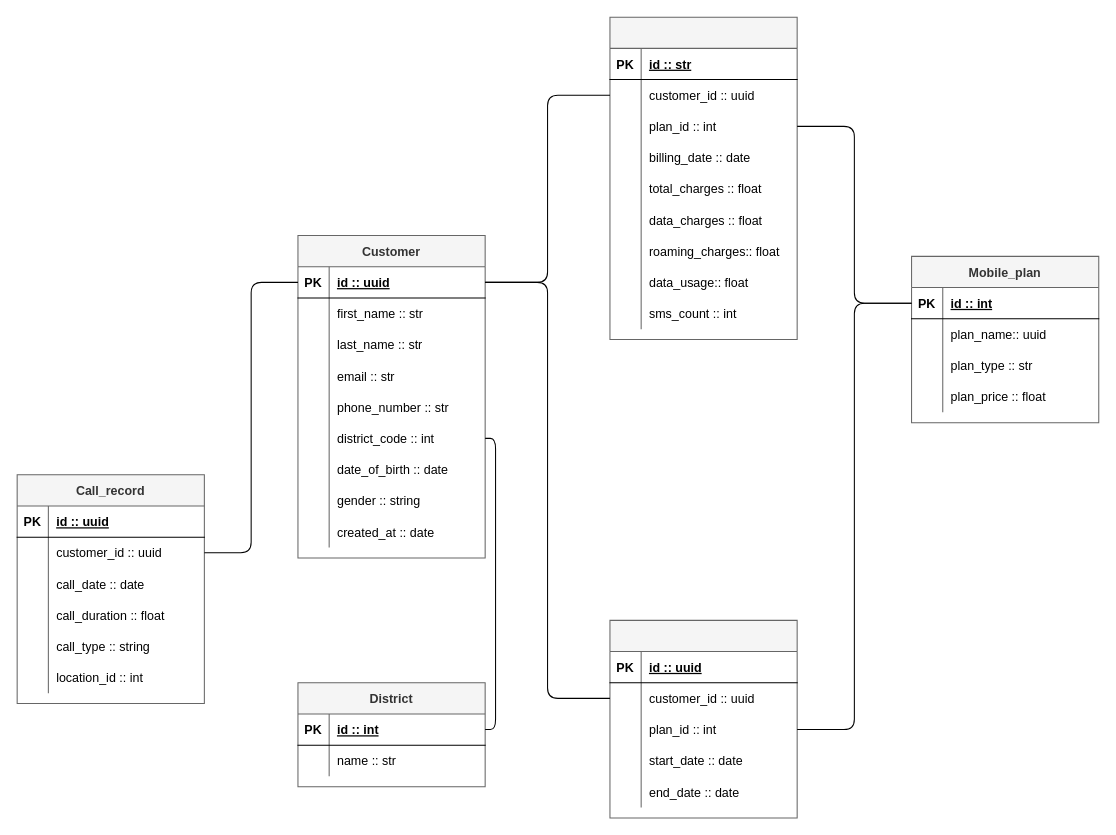
The diagram is 1116 pixels wide and 835 high, and some of its shapes have lost their labels. Here are the shapes that lost their labels. From the top down, the box of each, then its label:
(609, 16, 797, 340): Billing_info
(609, 619, 797, 818): Subscription_status
